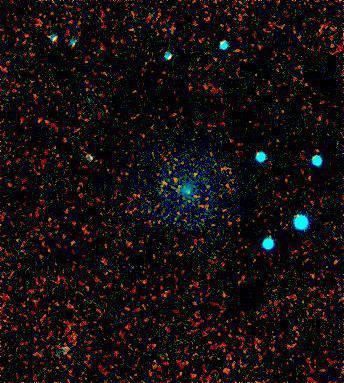star: (150, 168, 180, 198)
